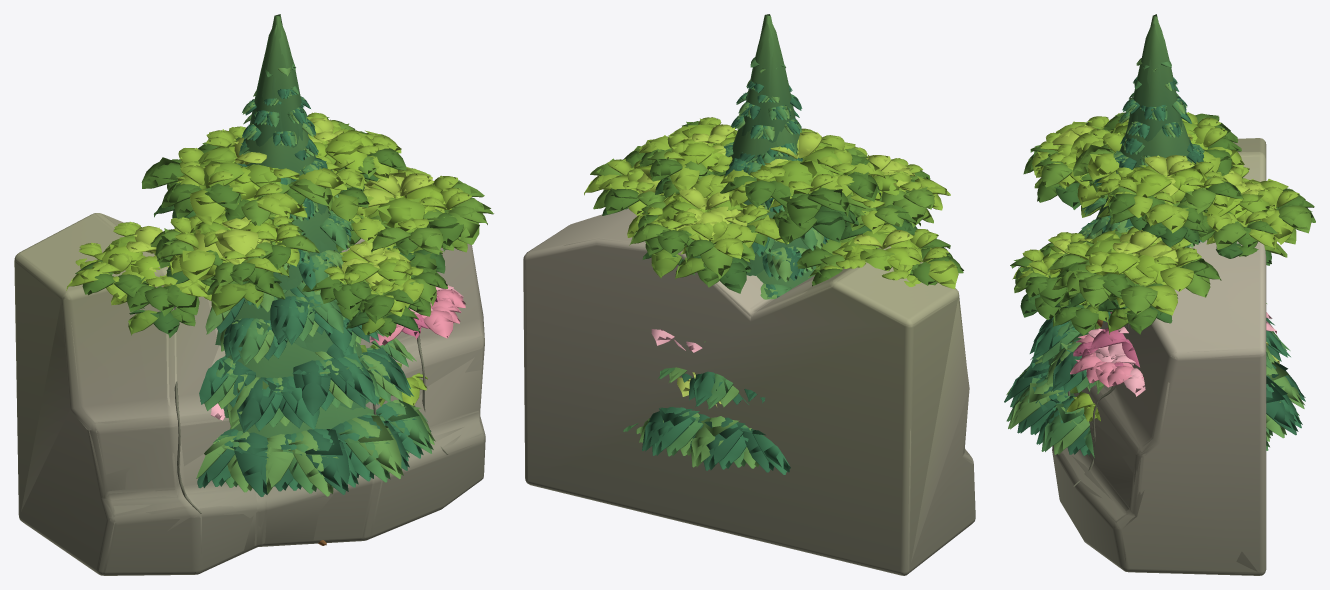
File: environment.glb
3 views of the same model, side by side, from view 1: azimuth 30°, elevation 25°; view 2: azimuth 150°, elevation 25°; view 3: azimuth 270°, elevation 25° (orthographic). The views are drawn at different scales.
Visible parts, largest first — view 1: cliff-near, oak-near, pine-near, cliff-far, oak-medium, pine-medium, oak-far, cliff-medium, pine-far, blossom-near; view 2: cliff-near, oak-near, pine-near, oak-medium, cliff-far, pine-medium, oak-far, pine-far; view 3: cliff-near, oak-near, pine-near, oak-medium, cliff-far, pine-medium, oak-far, blossom-near, pine-far, cliff-medium, blossom-medium, fruit-near.
Boxes of the visible parts, x1,y1,x2,y2 form: cliff-near: (14,213,485,575); oak-near: (66,112,493,545); pine-near: (196,23,434,496); cliff-far: (14,213,484,575); oak-medium: (67,112,489,545); pine-medium: (202,16,435,494); oak-far: (77,117,490,545); cliff-medium: (62,213,485,574); pine-far: (200,14,420,463); blossom-near: (210,283,465,420); cliff-near: (523,208,975,575); oak-near: (584,117,963,293); pine-near: (623,23,829,474); oak-medium: (584,117,963,289); cliff-far: (523,235,975,575); pine-medium: (626,24,827,472); oak-far: (595,118,955,283); pine-far: (657,14,814,441); cliff-near: (1052,138,1266,575); oak-near: (1010,112,1315,335); pine-near: (1004,16,1305,457); oak-medium: (1012,112,1313,332); cliff-far: (1052,138,1265,575); pine-medium: (1005,26,1305,455); oak-far: (1014,112,1312,326); blossom-near: (1070,312,1276,396); pine-far: (1023,14,1290,429); cliff-medium: (1052,152,1265,571); blossom-medium: (1070,312,1272,392); fruit-near: (1066,354,1279,421).
Size of the model in its own units: 5.74 by 6.73 by 3.95.
